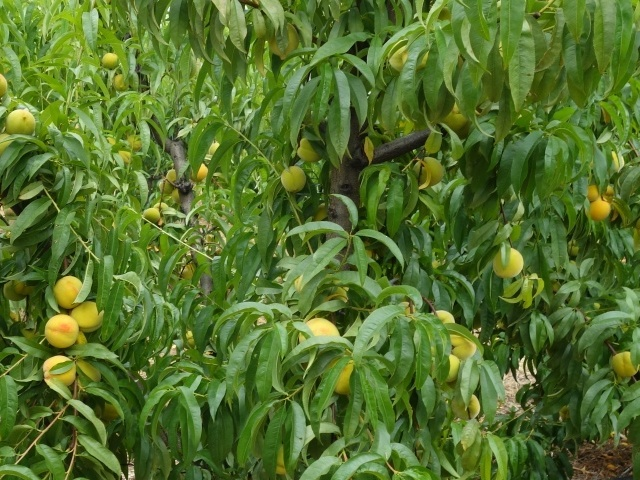peach: (325, 349, 361, 399), (296, 314, 344, 347), (43, 311, 81, 351), (39, 353, 78, 391), (387, 35, 428, 71), (70, 296, 106, 336), (267, 22, 300, 64), (51, 274, 88, 311), (491, 244, 526, 282), (448, 327, 481, 367), (2, 107, 38, 142), (435, 351, 467, 385), (608, 348, 640, 382), (415, 153, 446, 188), (280, 163, 311, 197), (450, 391, 482, 423), (69, 357, 103, 387), (296, 132, 322, 166), (588, 197, 613, 224), (432, 304, 458, 329), (186, 162, 212, 187), (141, 205, 162, 230), (99, 50, 121, 72), (586, 181, 605, 204), (110, 70, 128, 94), (155, 176, 174, 196), (165, 165, 182, 183)
